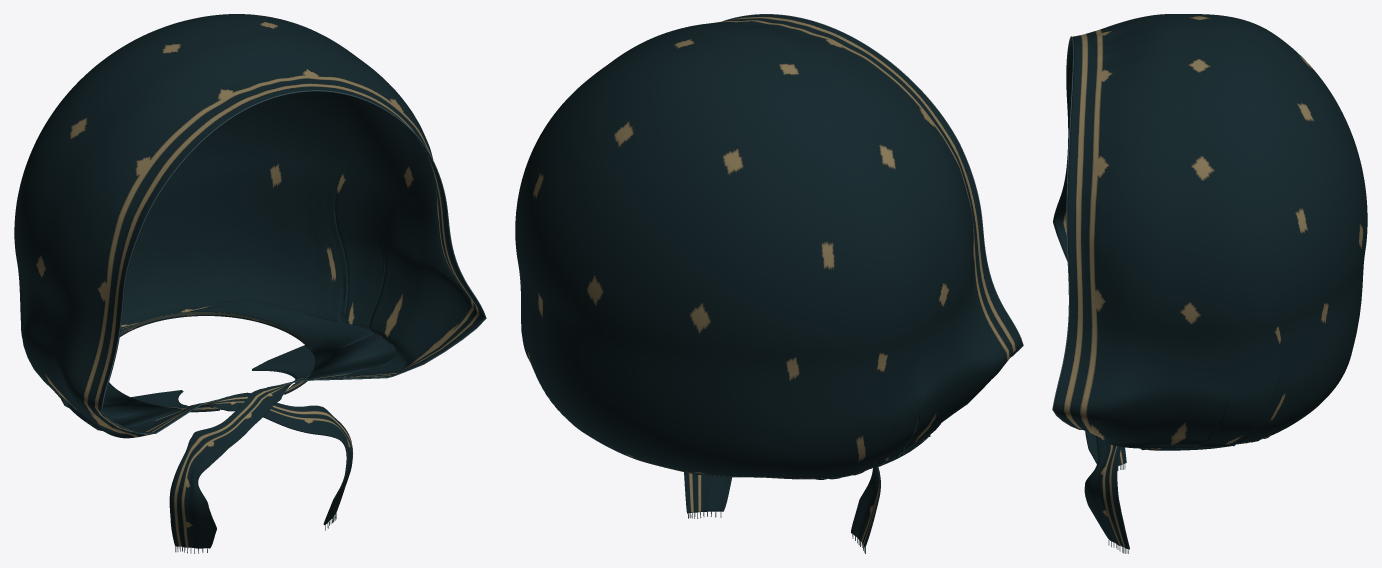
File: Feminine-box-braids-open-pashmina250-headgear.glb
3 renders of one model, left to right at view 1: azimuth 30°, elevation 25°; view 2: azimuth 150°, elevation 25°; view 3: azimuth 270°, elevation 25°, orthographic. The views are drawn at different scales.
Visible parts, largest first — view 1: 226 headgear / Headwear / continuous woven pashmina239, 226 headgear / Headwear / face edge239; view 2: 226 headgear / Headwear / continuous woven pashmina239, 226 headgear / Headwear / face edge239; view 3: 226 headgear / Headwear / continuous woven pashmina239, 226 headgear / Headwear / face edge239.
Boxes of the visible parts, box(x1,y1,x2,y2) form: 226 headgear / Headwear / continuous woven pashmina239: box(14, 14, 485, 548); 226 headgear / Headwear / face edge239: box(101, 90, 486, 433); 226 headgear / Headwear / continuous woven pashmina239: box(515, 14, 1022, 547); 226 headgear / Headwear / face edge239: box(722, 14, 1023, 357); 226 headgear / Headwear / continuous woven pashmina239: box(1053, 14, 1367, 549); 226 headgear / Headwear / face edge239: box(1052, 36, 1081, 429).
Size of the model in its own units: 1.19 by 1.4 by 0.8337.
3 materials, 1 textured.
